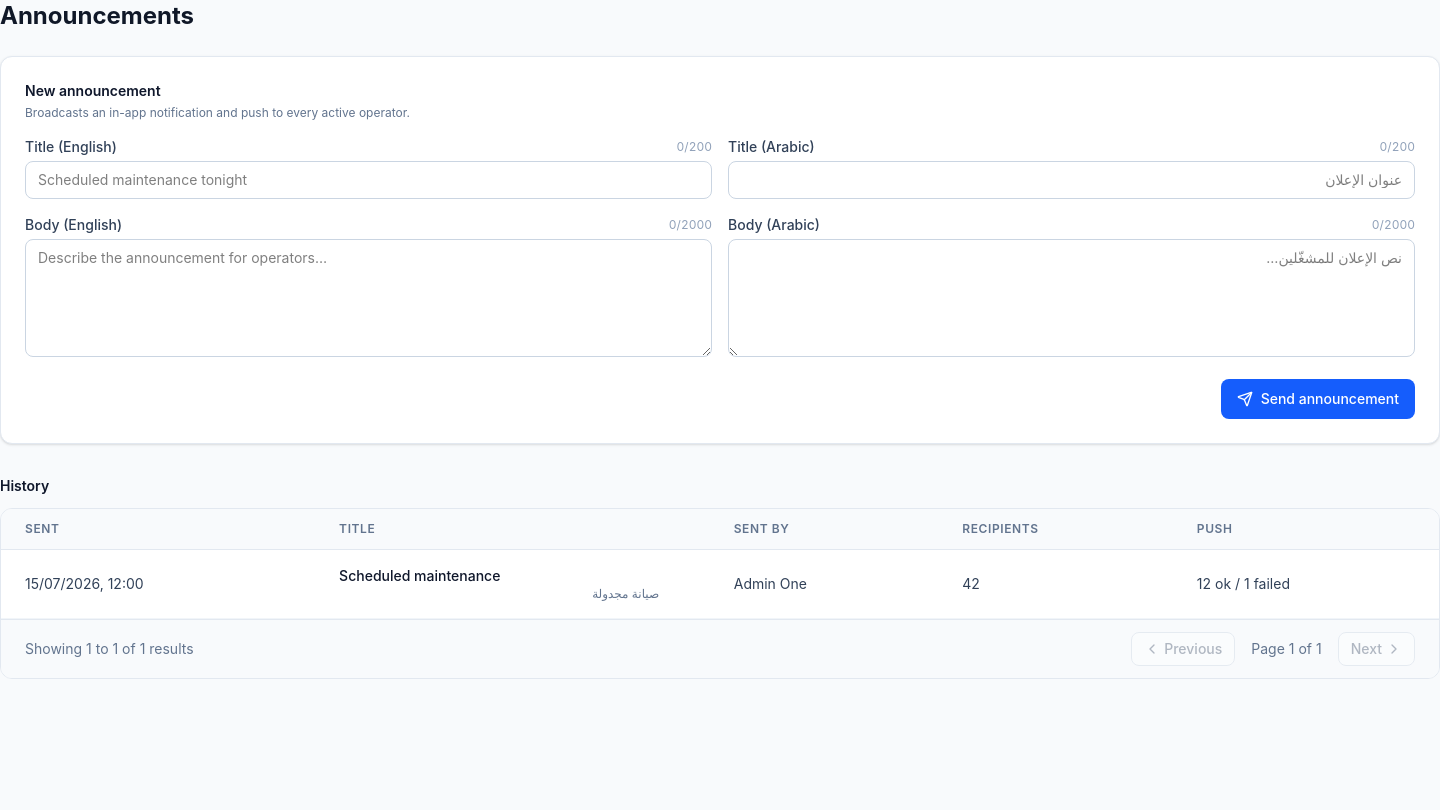
it: AnnouncementsPage › surfaces the backend error message when the broadcast fails
The image size is (1440, 810).
Expected: the text "Scheduled maintenance" is shown, [339,567,500,584]
Type "Hello" into the field labelled "Title (English)" at (368, 180), box [25,161,712,199]
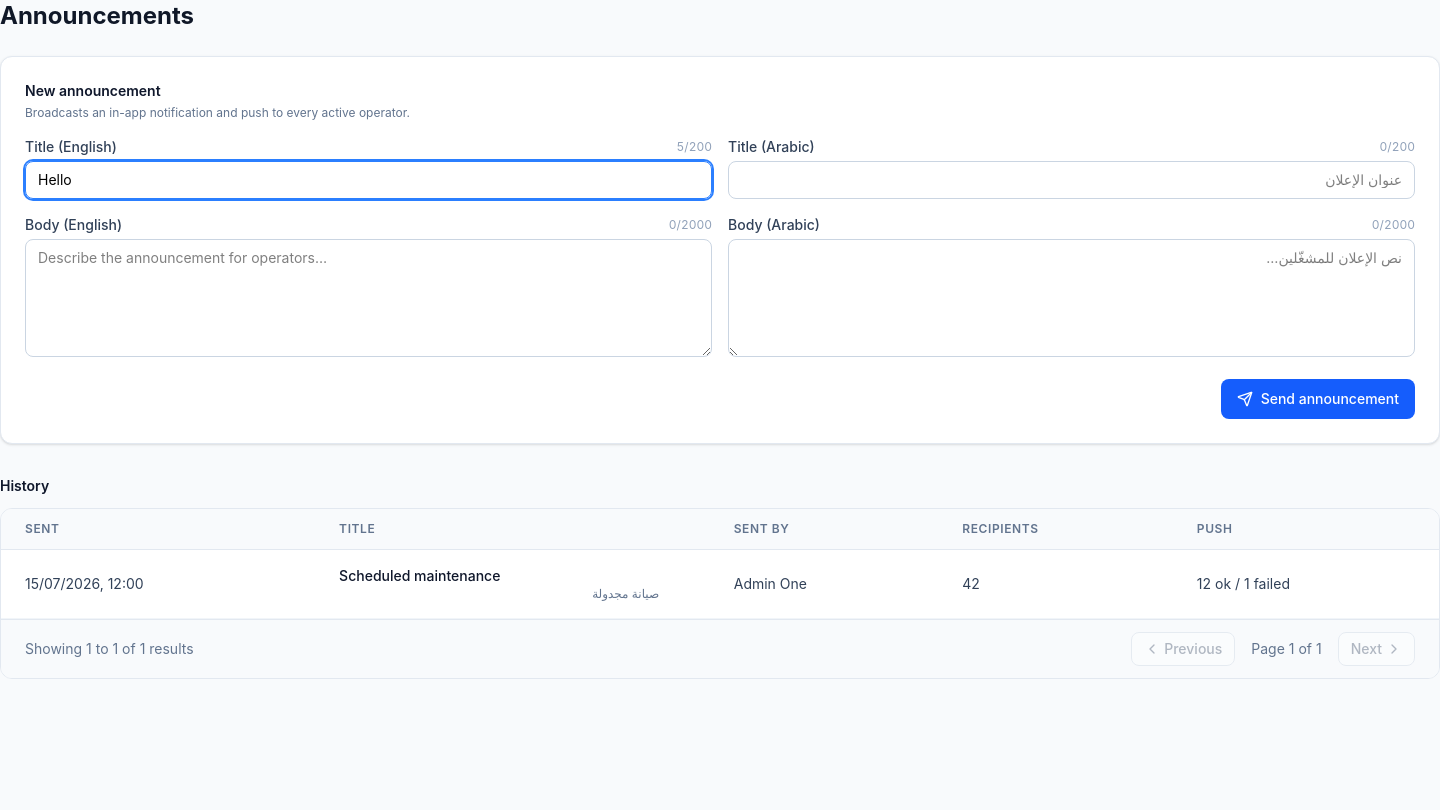
Type "مرحبا" into the field labelled "Title (Arabic)" at (1072, 180), box [728,161,1415,199]
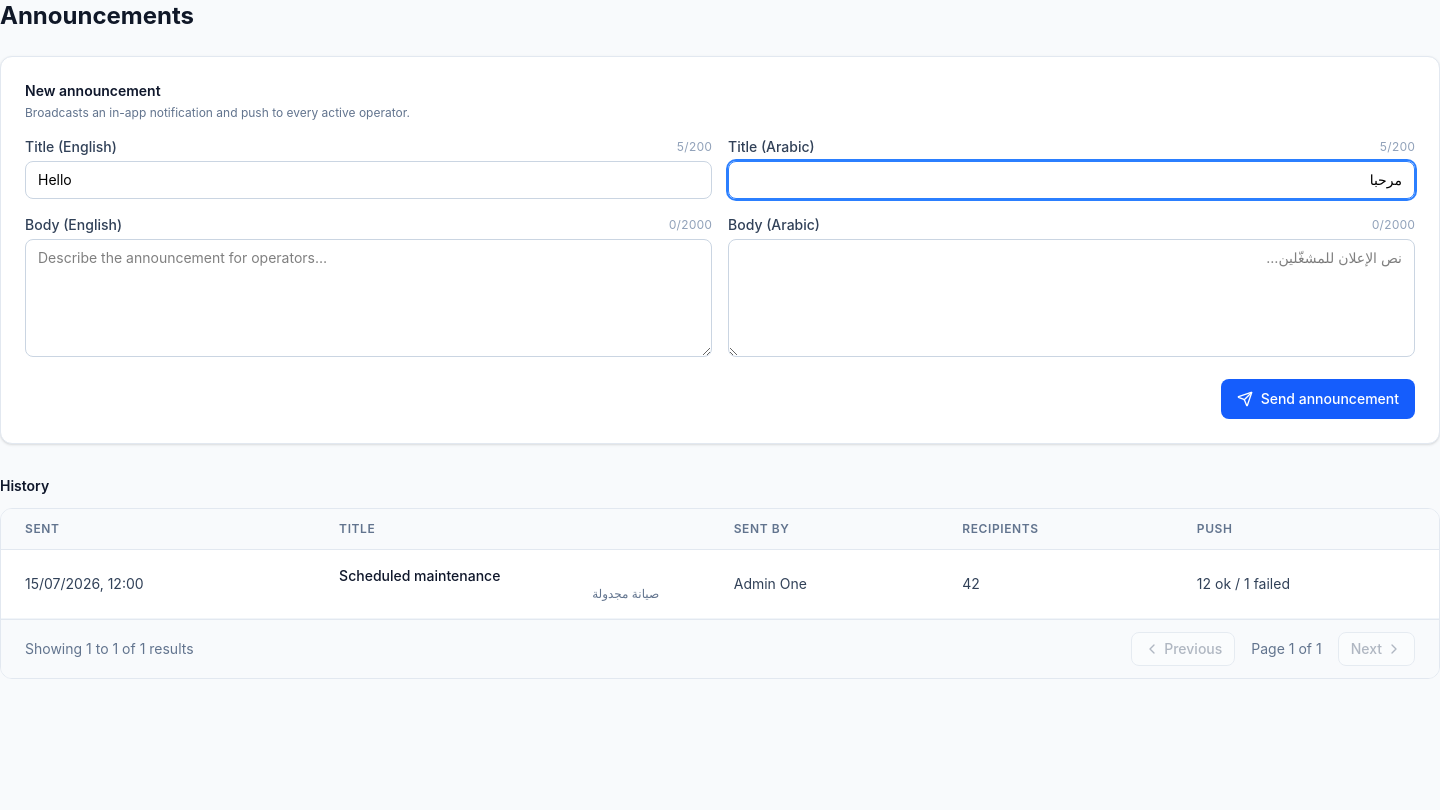
Type "Body text" into the text box labelled "Body (English)" at (368, 298), box [25,239,712,357]
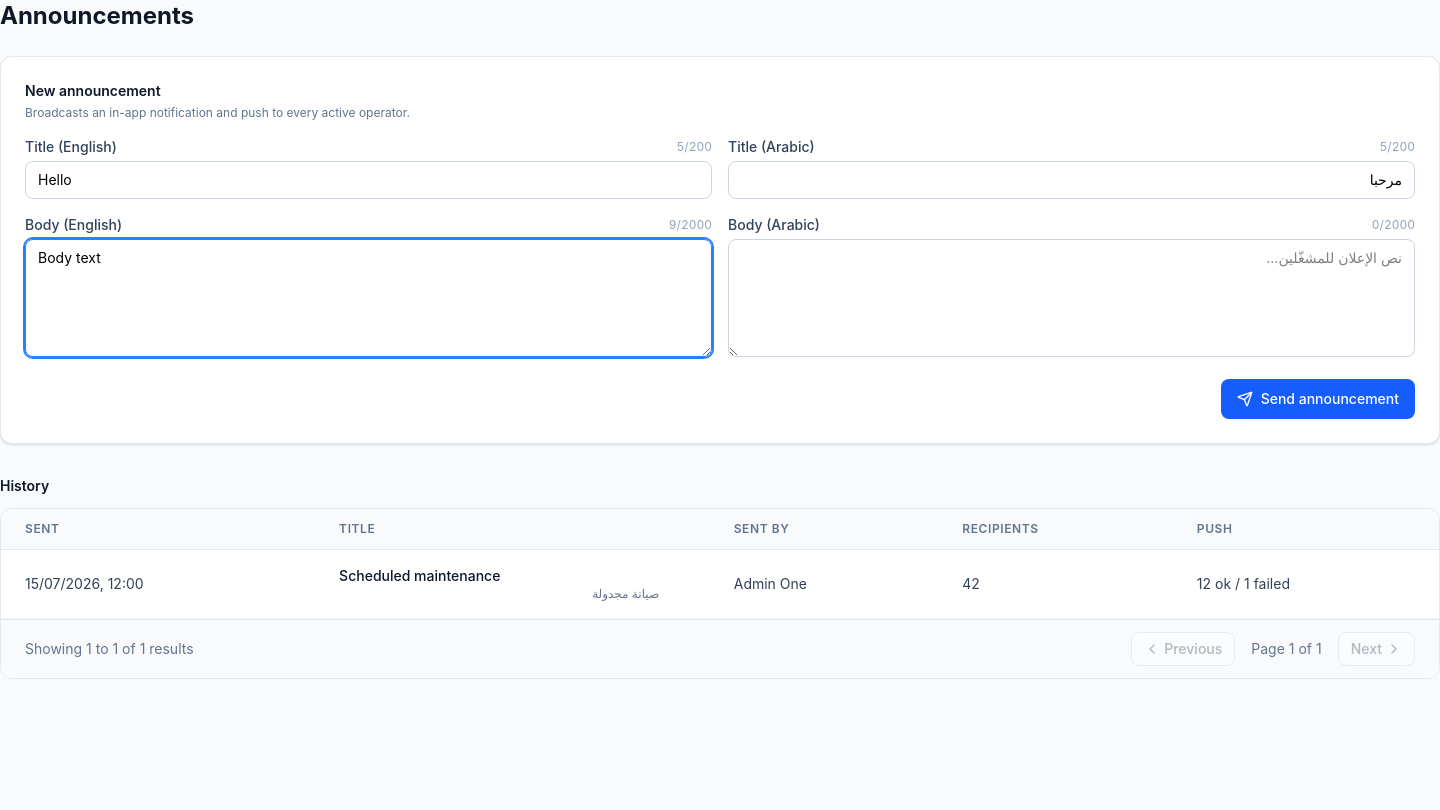
Type "نص الإعلان" into the text box labelled "Body (Arabic)" at (1072, 298), box [728,239,1415,357]
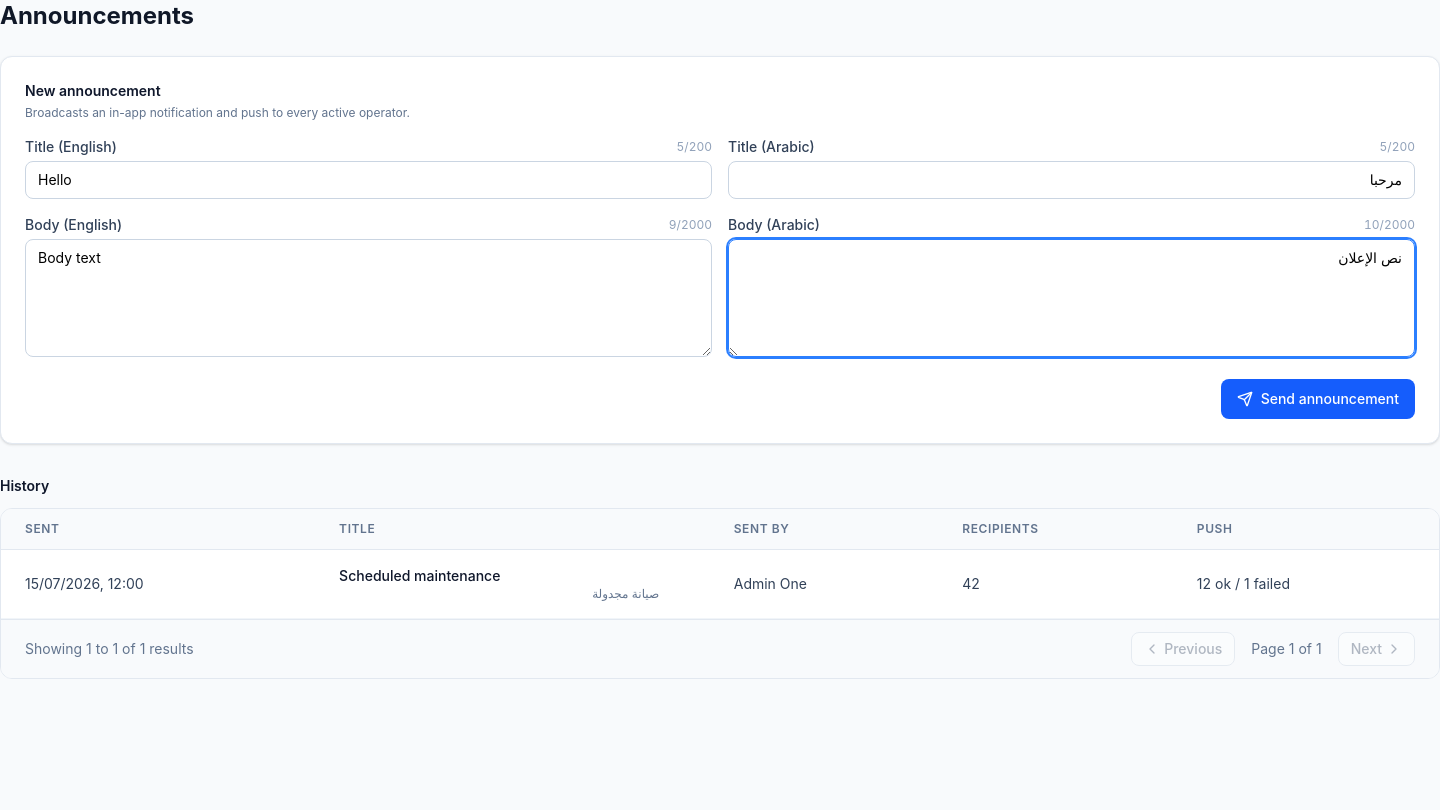
Click the button "Send announcement" at (1318, 399), box [1221,379,1415,419]
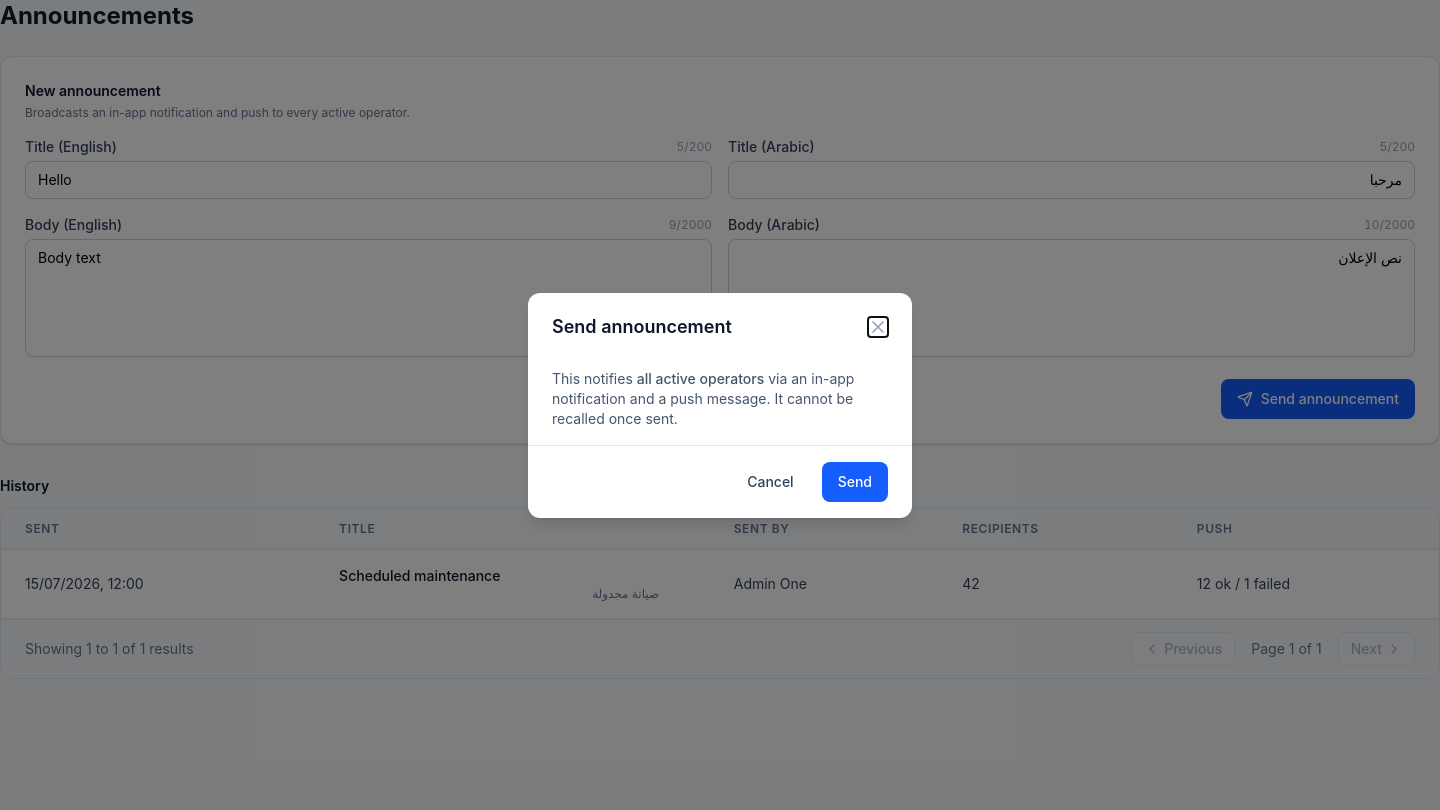
Click the button "Send" at (855, 482), box [822,462,888,502]
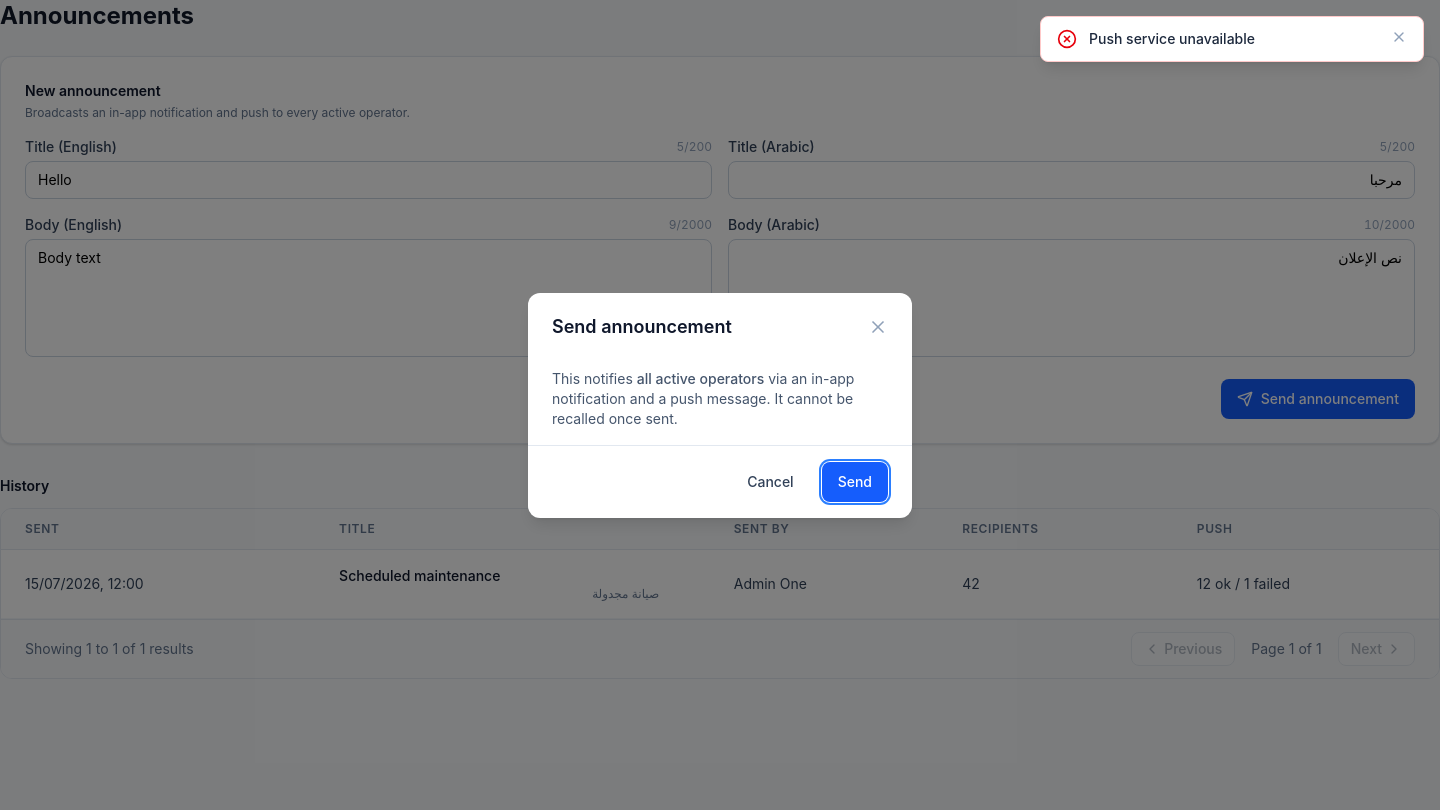
Expected: the text "Push service unavailable" is shown, [1089,30,1255,47]
